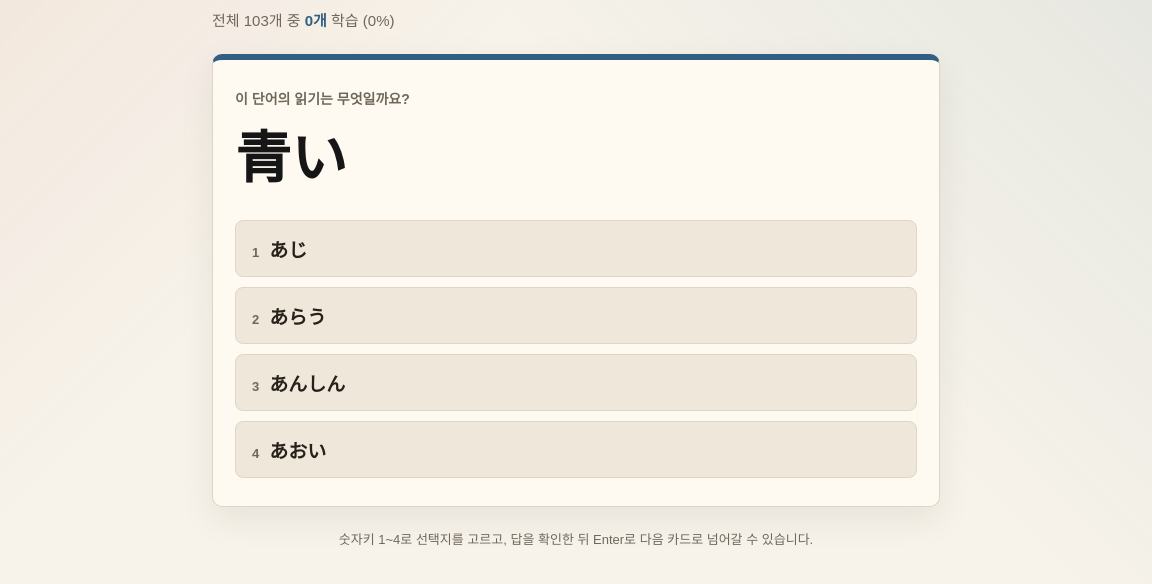
it: 학습 화면 (S1, AC-4) › 다음 카드로 넘어가면 새 문제를 보여 준다
Click the button "4あおい" at (298, 452), box [235,421,917,478]
(page scrolled)
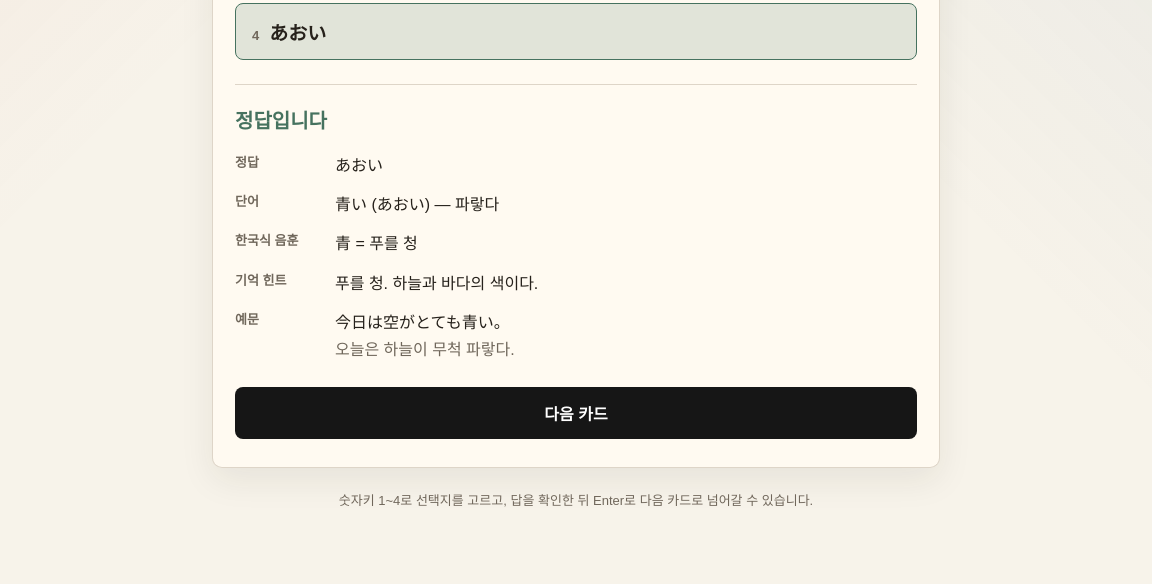
Click the button "다음 카드" at (576, 413), box [235,387,917,439]
(page scrolled)
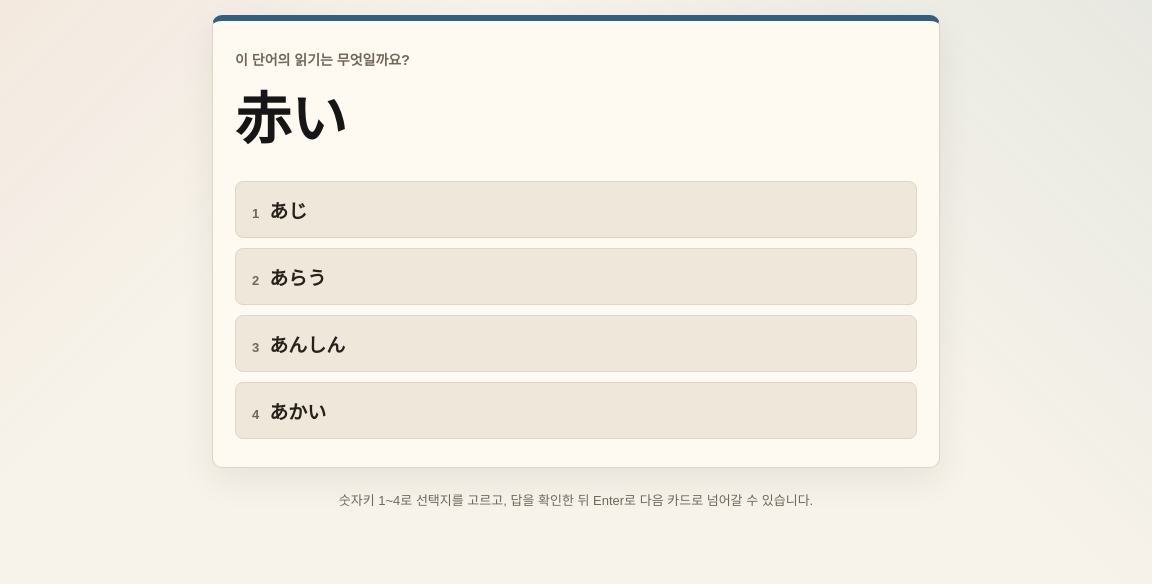
Result: the text with test id "card-subject" no longer shows "青い" at [235,88,347,151]
Result: the text with test id "verdict" is gone
